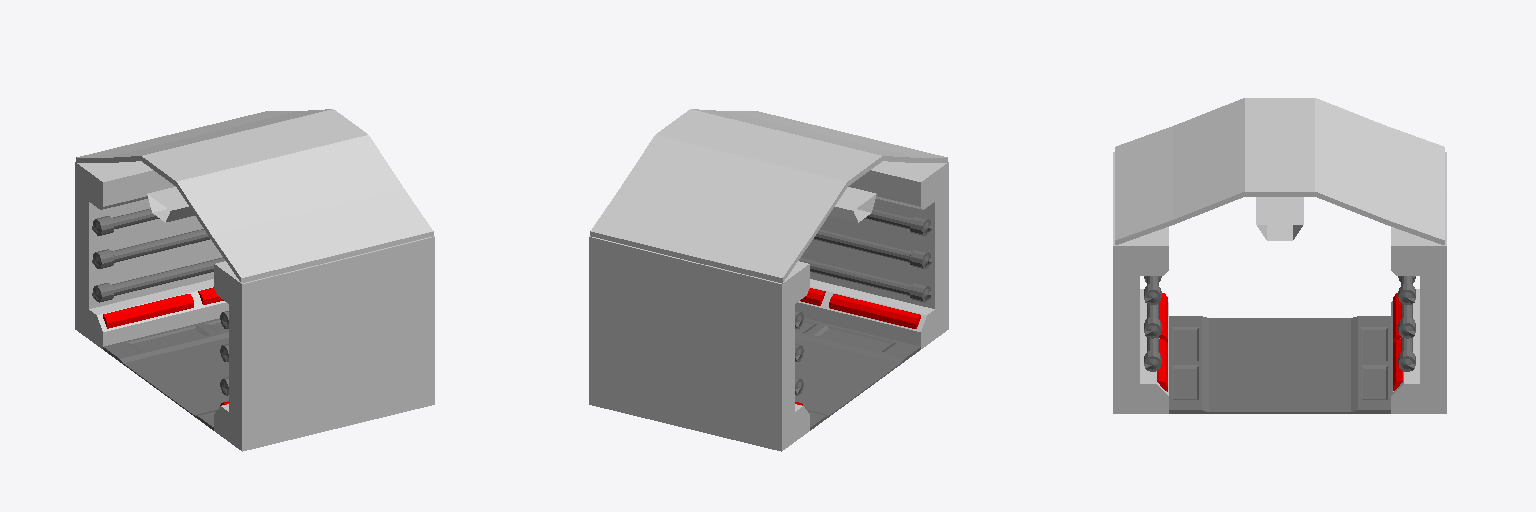
3 views of the same model, side by side, from view 1: azimuth 30°, elevation 25°; view 2: azimuth 150°, elevation 25°; view 3: azimuth 270°, elevation 25° (orthographic).
Parts seen in each view (by area): view 1: PasilloX5; view 2: PasilloX5; view 3: PasilloX5.
Part boxes in pixels (bbox=[...]): PasilloX5: bbox=[75, 109, 434, 451]; PasilloX5: bbox=[589, 109, 948, 451]; PasilloX5: bbox=[1113, 98, 1446, 413].
Bounding box in the file's own units: 4.03 × 4.4 × 6.